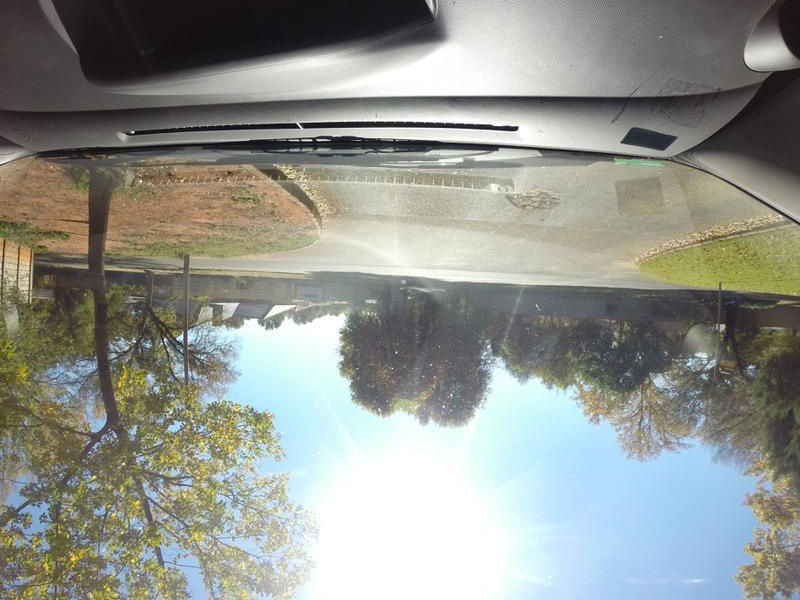pothole: (511, 190, 558, 216)
